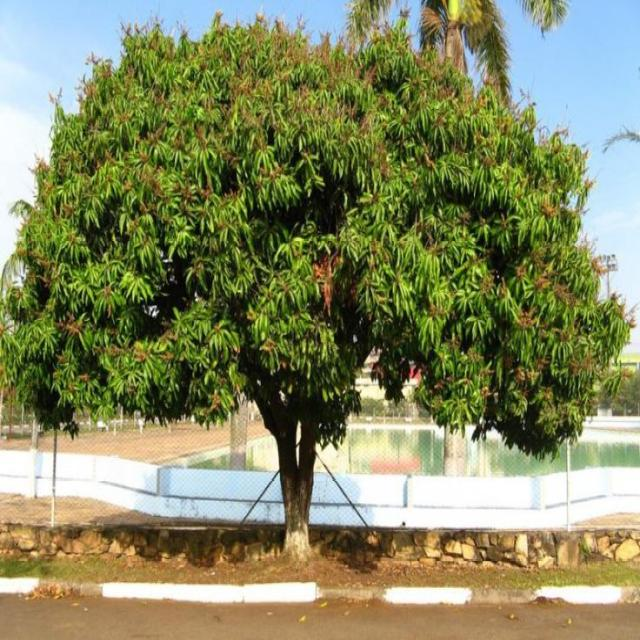Mango-Tree: (31, 41, 598, 493)
